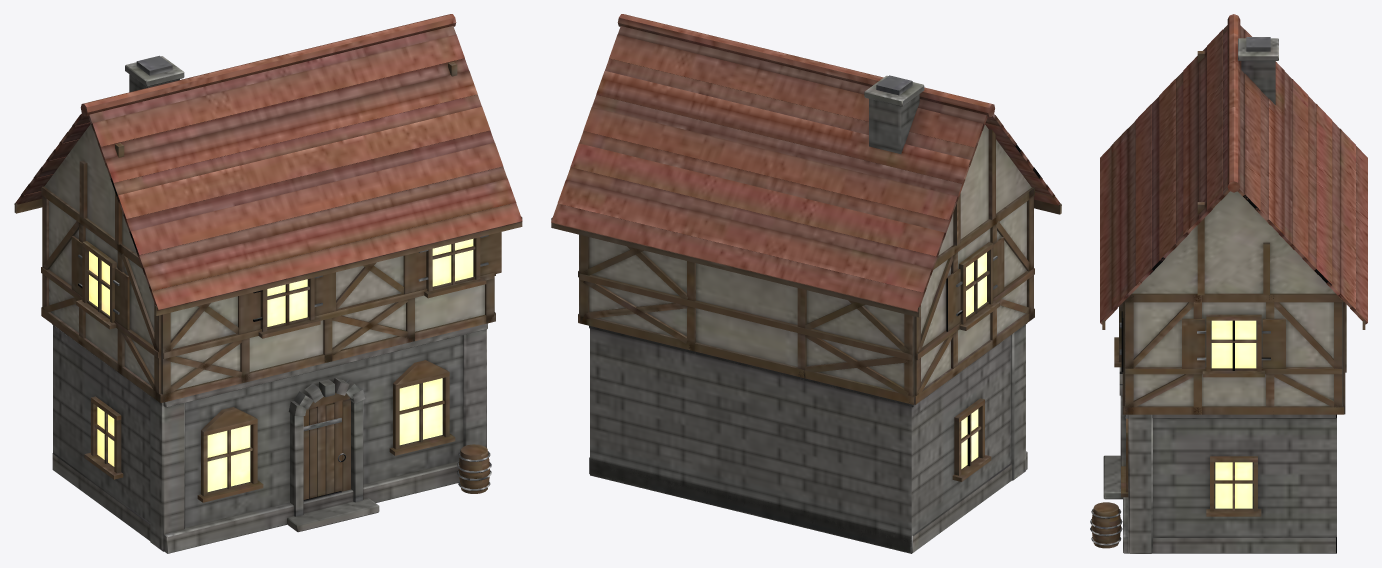
The model's file is casa_a.glb.
3 views of the same model, side by side, from view 1: azimuth 30°, elevation 25°; view 2: azimuth 150°, elevation 25°; view 3: azimuth 270°, elevation 25° (orthographic). The views are drawn at different scales.
Parts seen in each view (by area): view 1: casa_a; view 2: casa_a; view 3: casa_a.
Part boxes in pixels (<box>): casa_a: <box>14,14,522,553</box>; casa_a: <box>551,14,1061,553</box>; casa_a: <box>1090,14,1367,553</box>.
Size of the model in its own units: 8.06 by 8.84 by 5.66.
1 material, 1 textured.
